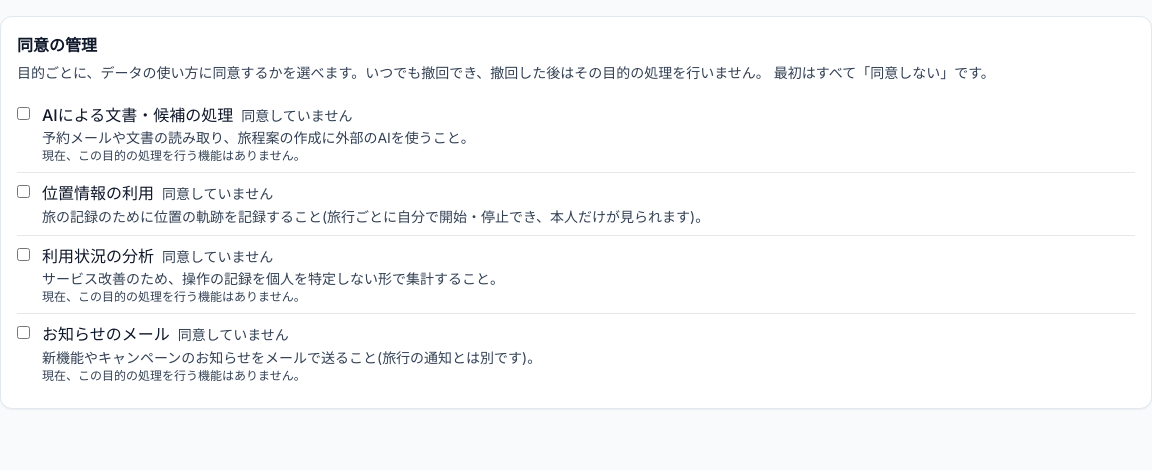
Scenario: ConsentsCard (Gate P9) › 既定は同意しない。切り替えると目的ごとに保存する
Expected: the text "現在、この目的の処理を行う機能はありません。" is shown 3 times, [42, 148, 306, 163]; [42, 289, 306, 304]; [42, 368, 306, 383]
Click the checkbox labelled "AIによる文書・候補の処理".
click(24, 113)  # box [17, 107, 30, 120]
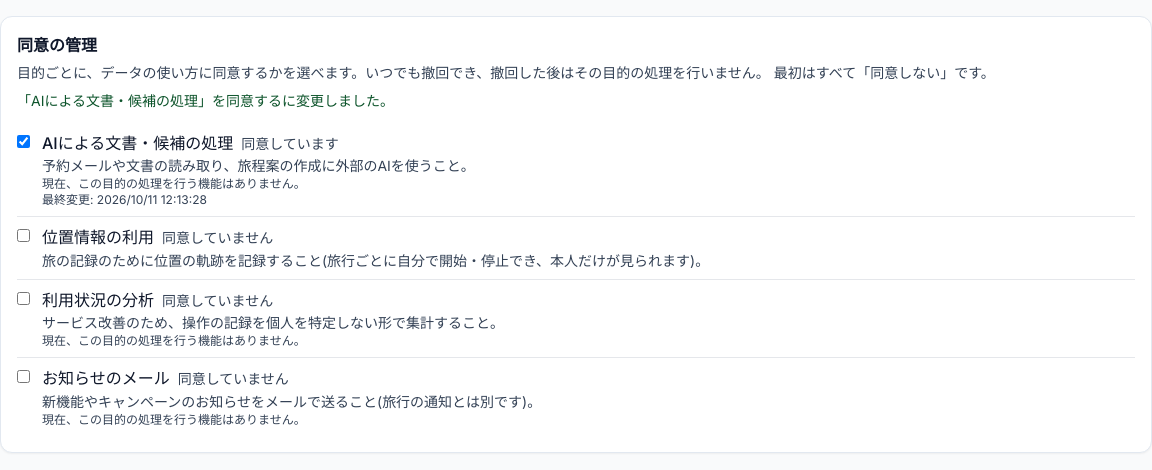
Result: the checkbox labelled "AIによる文書・候補の処理" is checked at [17, 135, 30, 148]
Result: the message reads "「AIによる文書・候補の処理」を同意するに変更しました。" at [17, 92, 394, 109]
Result: the text "最終変更: 2026/10/11 12:13:28" is shown at [42, 192, 207, 207]
